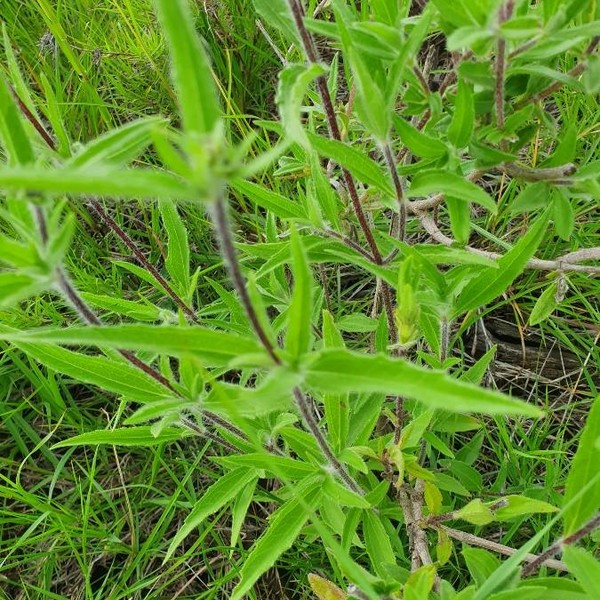obstacle: (69, 83, 483, 552)
